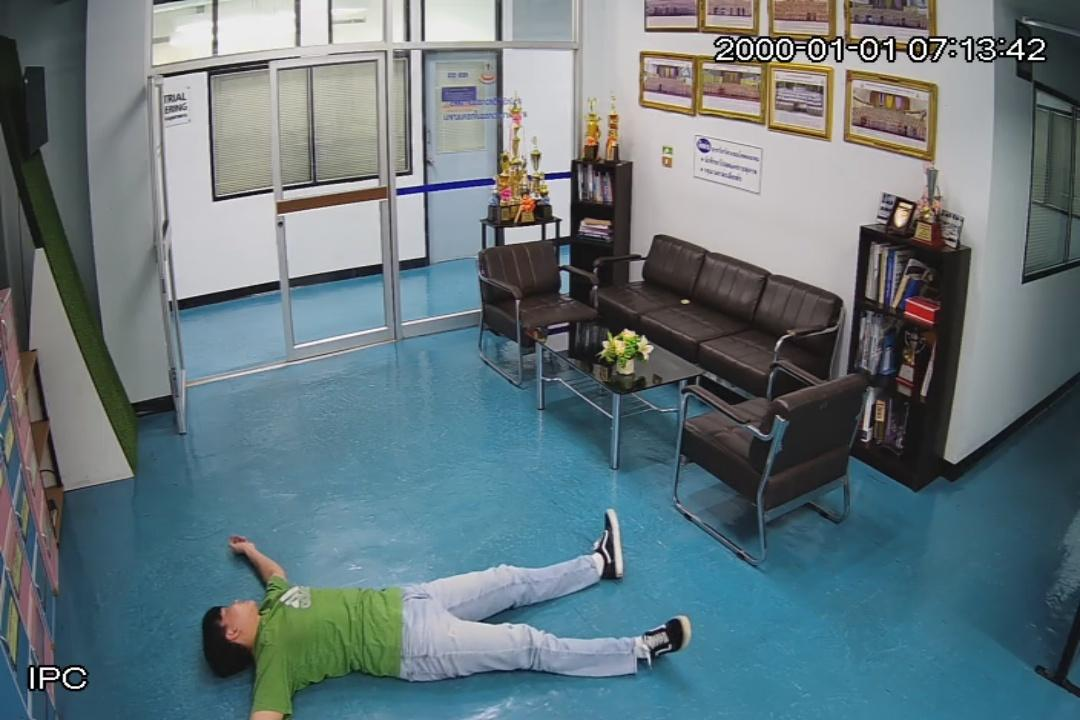fall: (203, 506, 693, 720)
